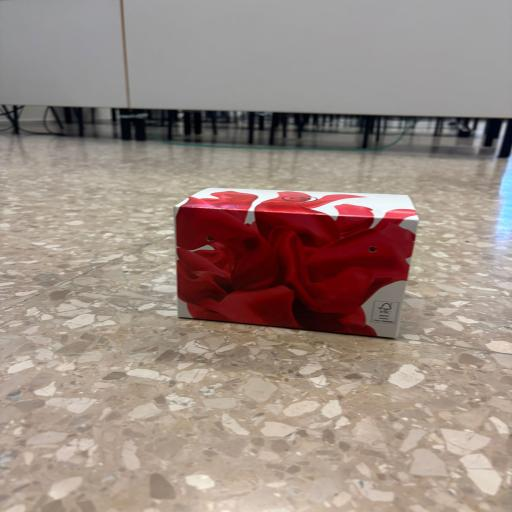caja_2: (174, 187, 418, 337)
